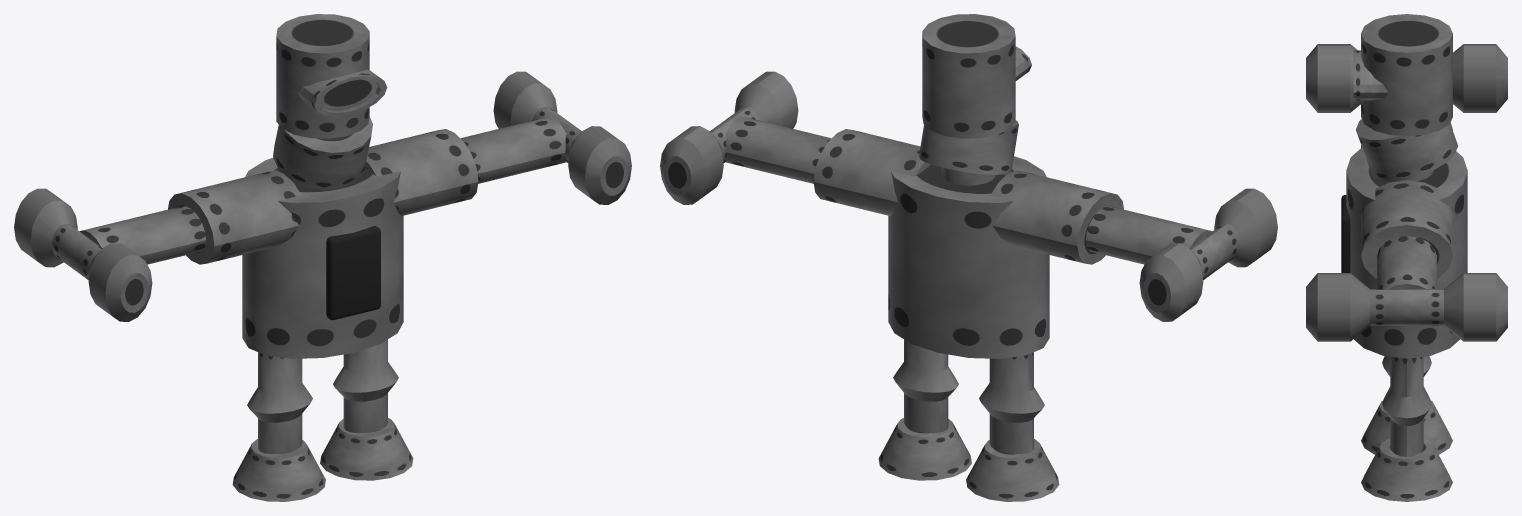
File: 02_Robo_04.fbx
The picture shows the model from 3 angles, left to right: view 1: azimuth 30°, elevation 25°; view 2: azimuth 150°, elevation 25°; view 3: azimuth 270°, elevation 25°; orthographic projection. The views are drawn at different scales.
Parts seen in each view (by area): view 1: Cylinder.003, Cylinder.006, Cylinder.004, Cylinder.005, Cylinder.007, Cylinder, Cylinder.009, Cylinder.001, Cube, Cylinder.002; view 2: Cylinder.003, Cylinder.006, Cylinder.004, Cylinder, Cylinder.005, Cylinder.007, Cylinder.009, Cylinder.001; view 3: Cylinder.006, Cylinder, Cylinder.003, Cylinder.004, Cylinder.009, Cylinder.001, Cylinder.007, Cylinder.005, Cylinder.002, Cube.
Part boxes in pixels (box(x1,y1,x2,y2)): Cylinder.003: box(242, 158, 403, 358); Cylinder.006: box(14, 71, 631, 321); Cylinder.004: box(168, 129, 478, 264); Cylinder.005: box(79, 117, 566, 264); Cylinder.007: box(247, 339, 398, 454); Cylinder: box(276, 14, 369, 138); Cylinder.009: box(232, 418, 413, 501); Cylinder.001: box(273, 117, 372, 189); Cube: box(326, 226, 380, 320); Cylinder.002: box(298, 70, 387, 116); Cylinder.003: box(888, 156, 1049, 358); Cylinder.006: box(660, 71, 1277, 321); Cylinder.004: box(813, 129, 1123, 264); Cylinder: box(922, 14, 1015, 138); Cylinder.005: box(725, 117, 1212, 264); Cylinder.007: box(893, 339, 1044, 454); Cylinder.009: box(878, 418, 1059, 501); Cylinder.001: box(919, 120, 1018, 174); Cylinder.006: box(1306, 44, 1507, 341); Cylinder: box(1361, 14, 1452, 136); Cylinder.003: box(1346, 148, 1467, 358); Cylinder.004: box(1361, 122, 1452, 278); Cylinder.009: box(1361, 400, 1452, 501); Cylinder.001: box(1356, 119, 1457, 181); Cylinder.007: box(1382, 356, 1431, 456); Cylinder.005: box(1377, 236, 1436, 288); Cylinder.002: box(1353, 50, 1387, 100); Cube: box(1341, 195, 1350, 272).
Bounding box in the file's own units: 306 × 243 × 104.
2 materials, 1 textured.
